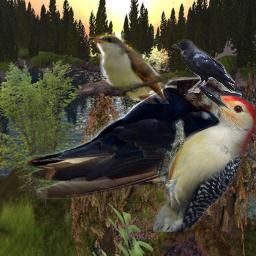Crow: (171, 39, 235, 93)
Cuckoo: (85, 28, 177, 104)
Swallow: (25, 77, 242, 199)
Woodpecker: (153, 84, 256, 232)
